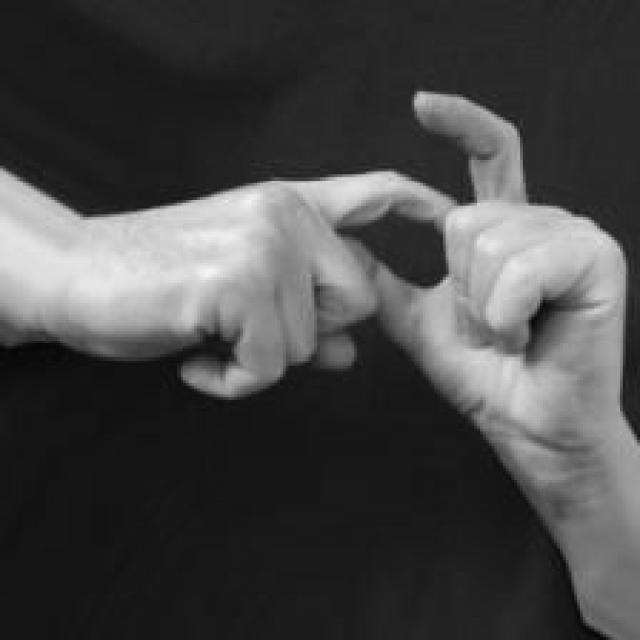G: (89, 88, 627, 470)
